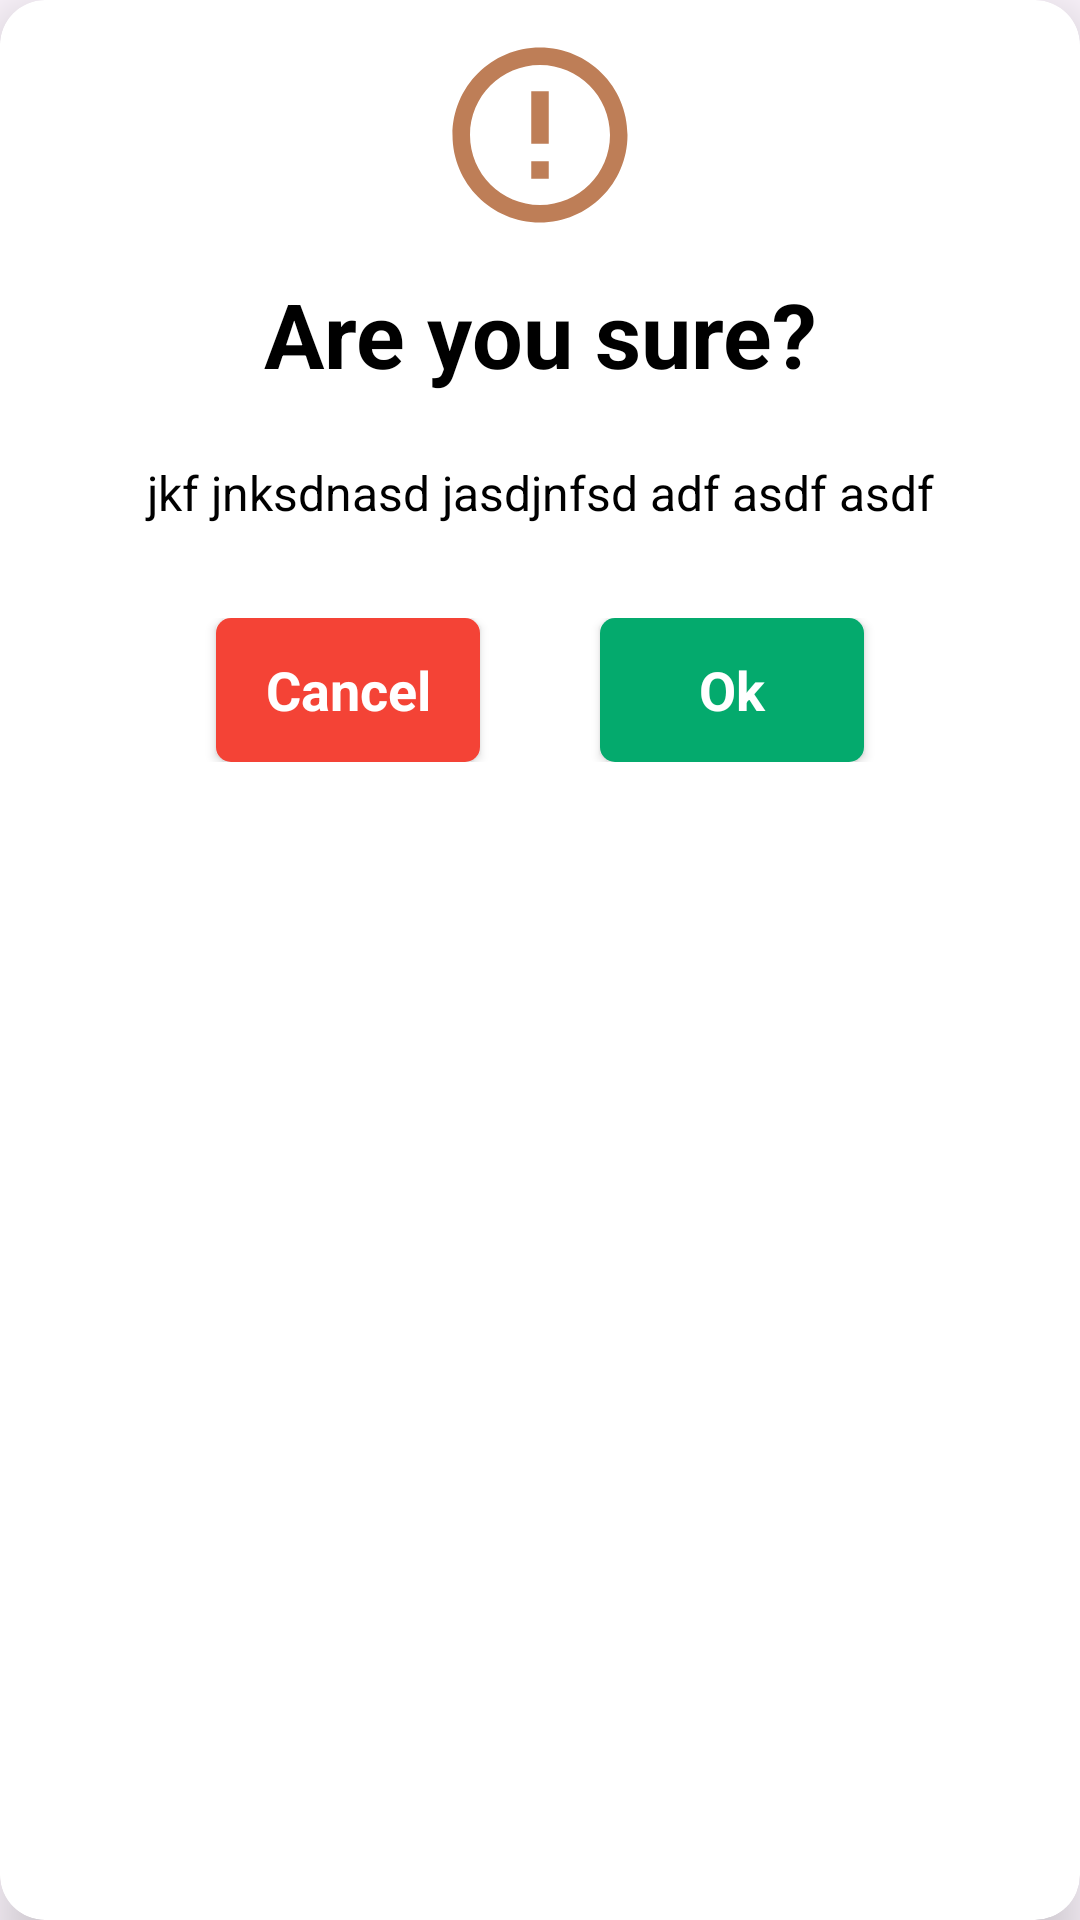

Screen size 1080×1920. Icon name, then its box in pixels as (x1, y1, x2, y2):
error: (452, 47, 628, 223)
